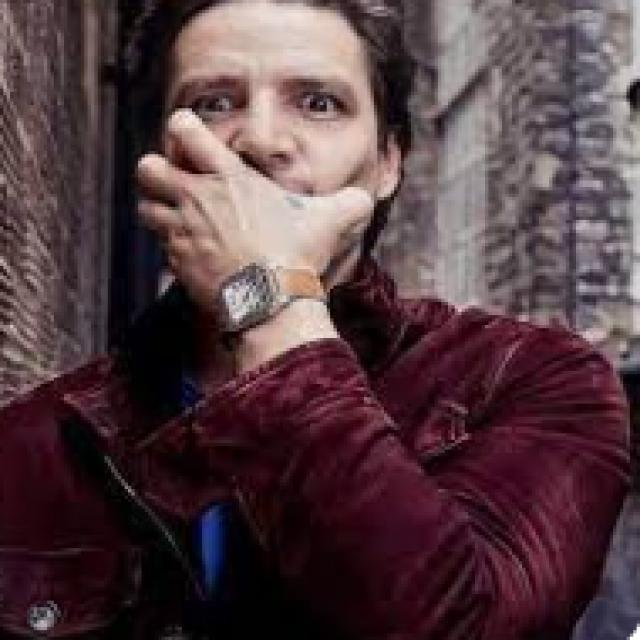Watch: (201, 260, 330, 341)
